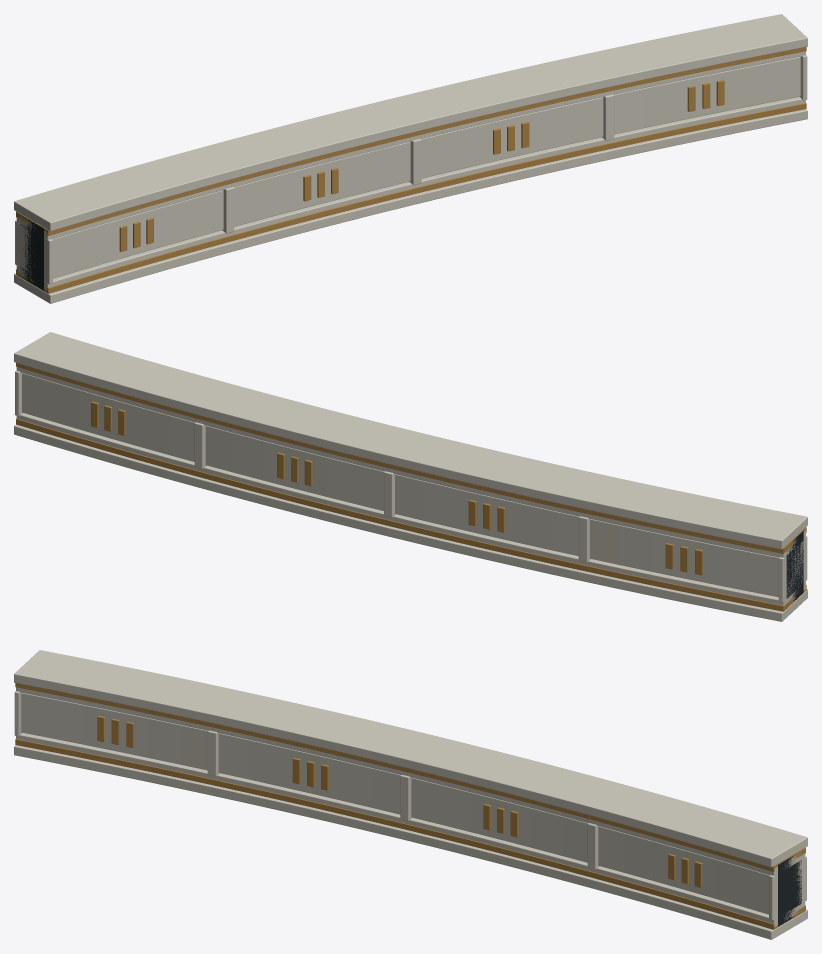
The model's file is SM_Aurelion_KIT_Z10CeilingRing50.fbx.
The picture shows the model from 3 angles, top to bottom: view 1: azimuth 30°, elevation 25°; view 2: azimuth 150°, elevation 25°; view 3: azimuth 330°, elevation 25°; orthographic projection.
Visible parts, largest first — view 1: SM_Aurelion_KIT_Z10CeilingRing50; view 2: SM_Aurelion_KIT_Z10CeilingRing50; view 3: SM_Aurelion_KIT_Z10CeilingRing50.
Part boxes in pixels (x1,y1,x2,y2): SM_Aurelion_KIT_Z10CeilingRing50: [14, 14, 807, 303]; SM_Aurelion_KIT_Z10CeilingRing50: [14, 332, 807, 621]; SM_Aurelion_KIT_Z10CeilingRing50: [14, 650, 807, 939].
Bounding box in the file's own units: 987 × 93.83 × 100.
